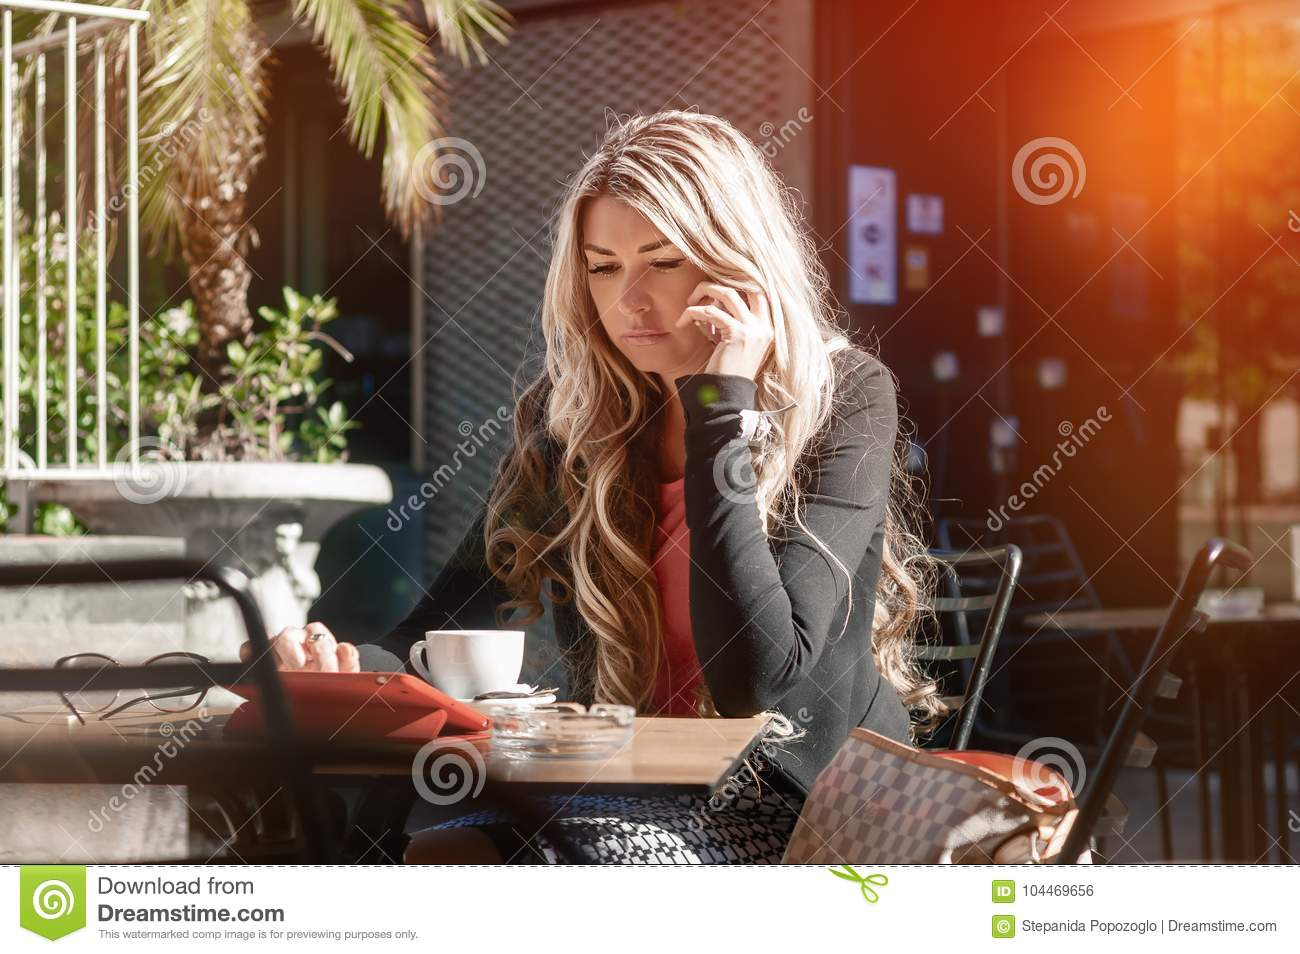phone: (692, 267, 753, 358)
talk: (587, 235, 769, 400)
